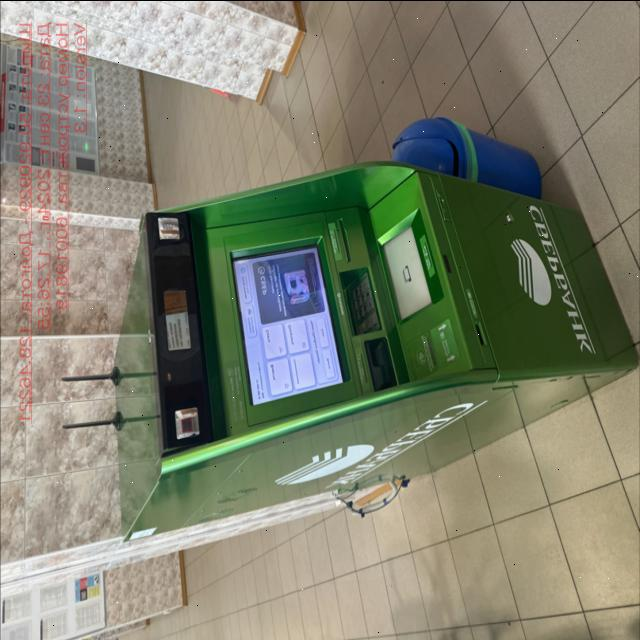bank: (113, 162, 640, 548)
